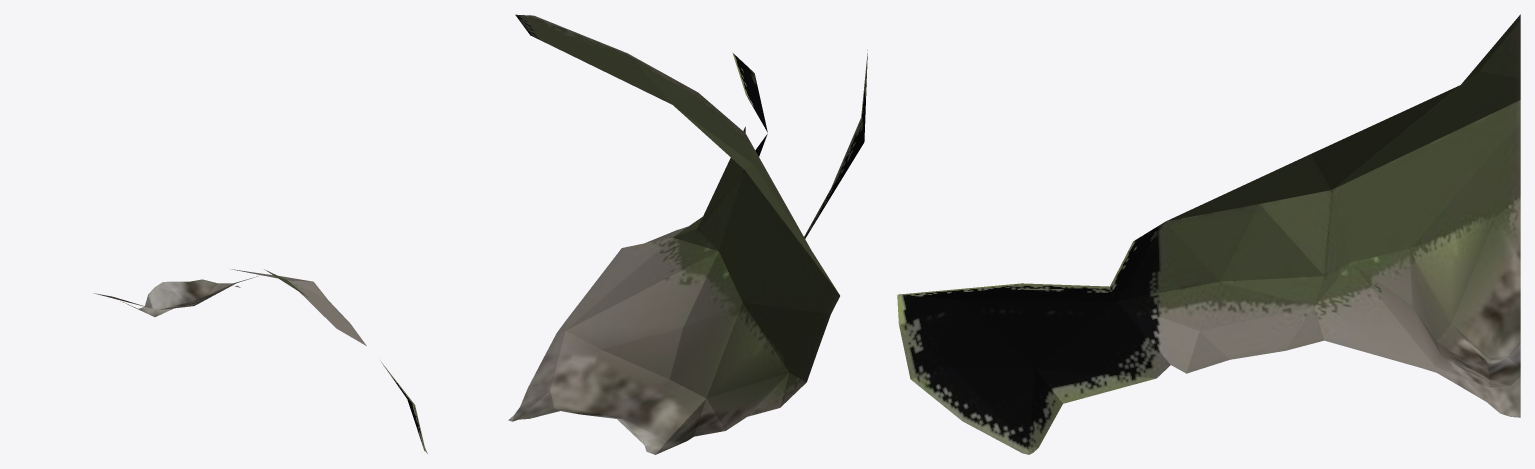
3 renders of one model, left to right at view 1: azimuth 30°, elevation 25°; view 2: azimuth 150°, elevation 25°; view 3: azimuth 270°, elevation 25°, orthographic. The views are drawn at different scales.
Size of the model in its own units: 2.68 by 3.5 by 5.03.
Materials: 1 (1 with a texture image).
